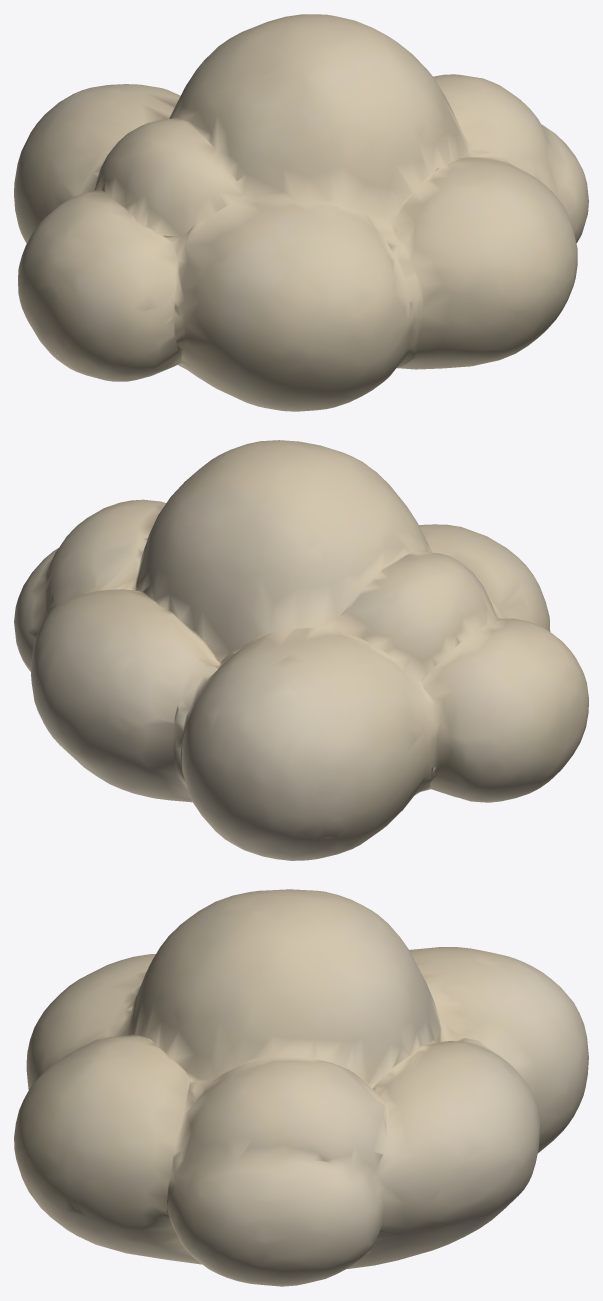
The model's file is cloud-puffy.glb.
3 renders of one model, top to bottom at view 1: azimuth 30°, elevation 25°; view 2: azimuth 150°, elevation 25°; view 3: azimuth 270°, elevation 25°, orthographic. The views are drawn at different scales.
Parts seen in each view (by area): view 1: Mesh_0; view 2: Mesh_0; view 3: Mesh_0.
Part boxes in pixels (x1,y1,x2,y2): Mesh_0: (14, 14, 588, 411); Mesh_0: (14, 440, 588, 860); Mesh_0: (14, 889, 588, 1286).
Size of the model in its own units: 2 by 1.14 by 1.81.
1 material, 1 textured.
